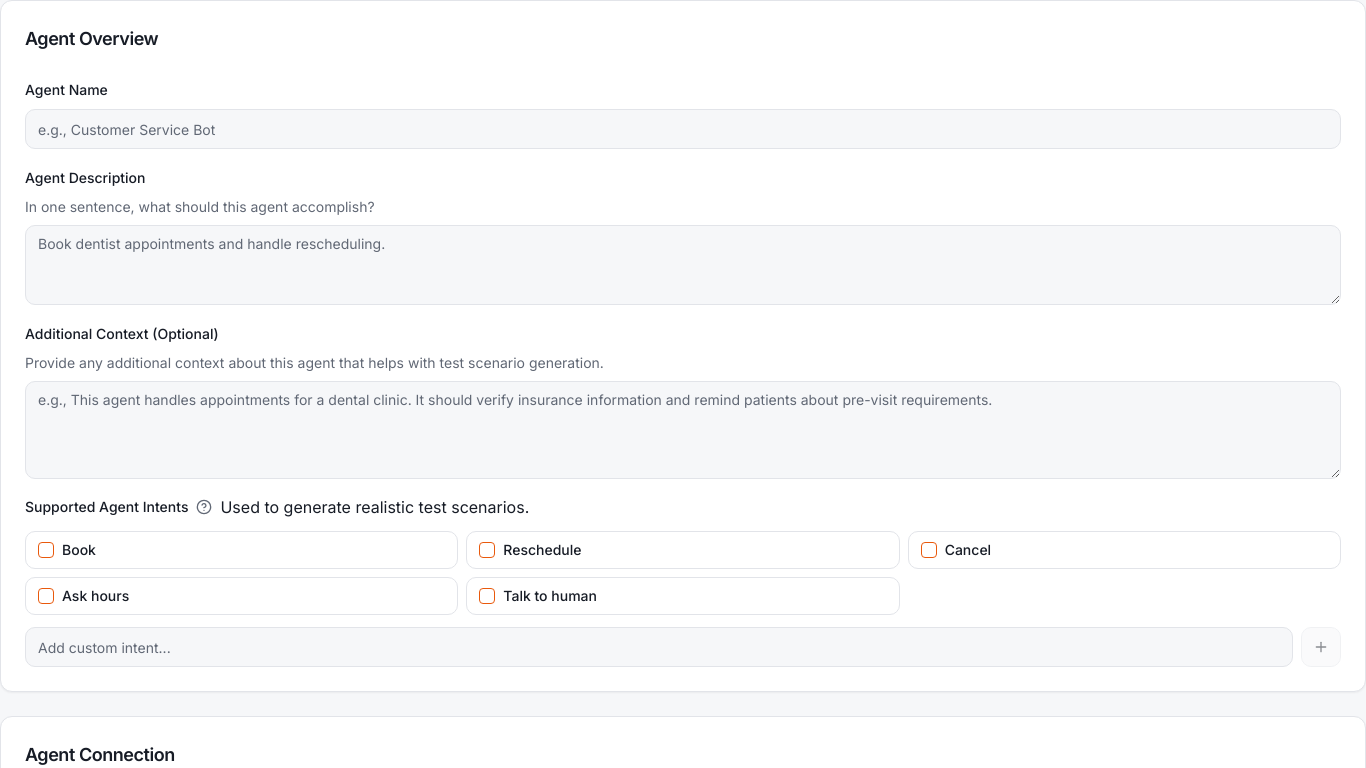
it: AgentConfigForm › intents management › adds custom intent
The width and height of the screenshot is (1366, 768).
Type "custom-action" into the field with placeholder "Add custom intent..." at (659, 647), box [25,627,1293,667]
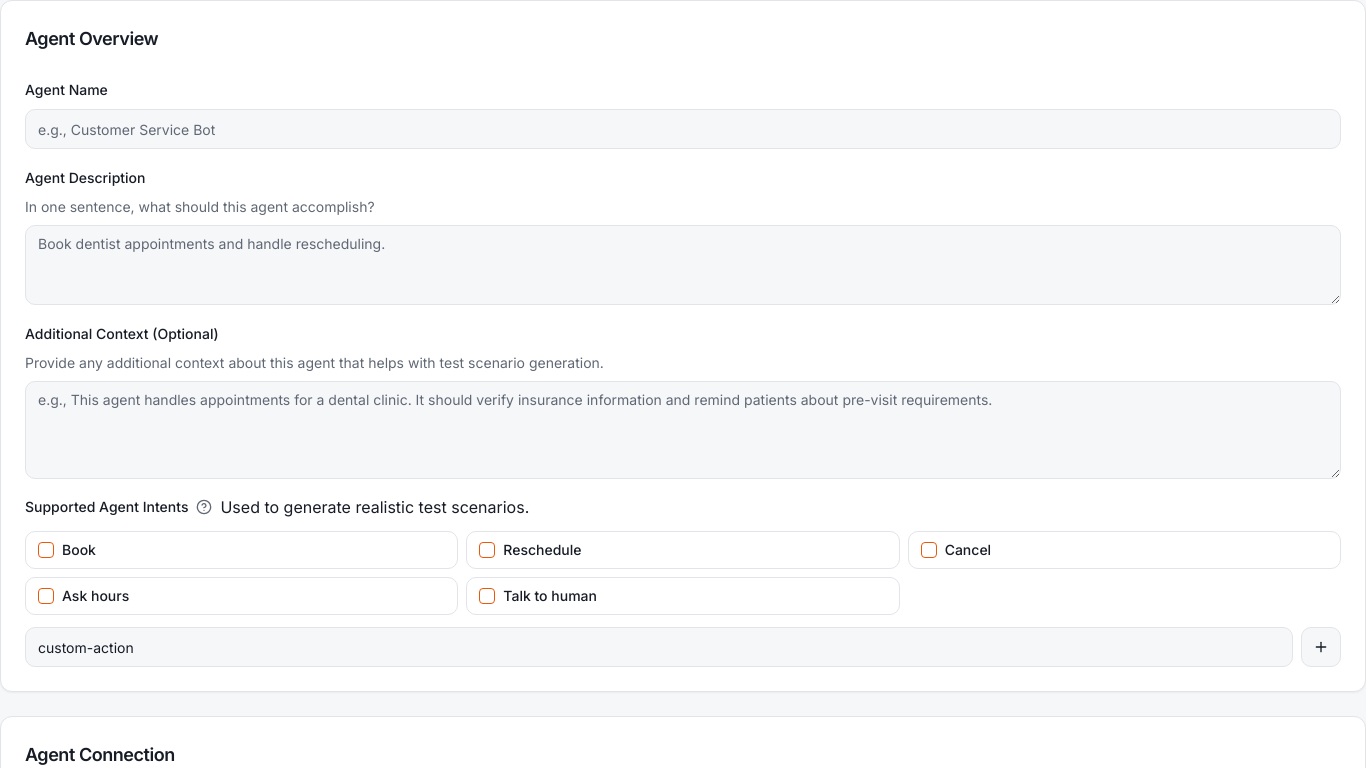
Click the 2nd button at (1321, 647), box [1301,627,1341,667]
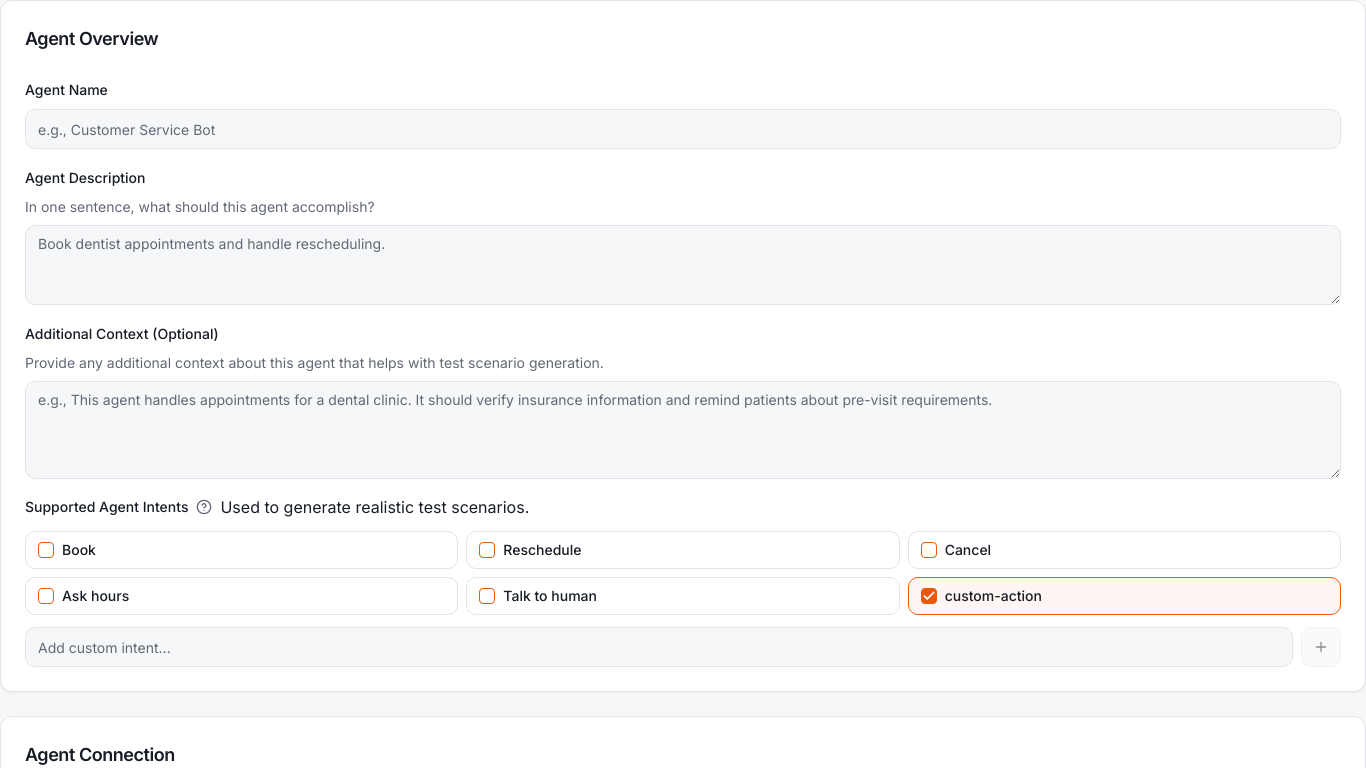
Check: the text "custom-action" is shown, box [945,586,1042,606]
